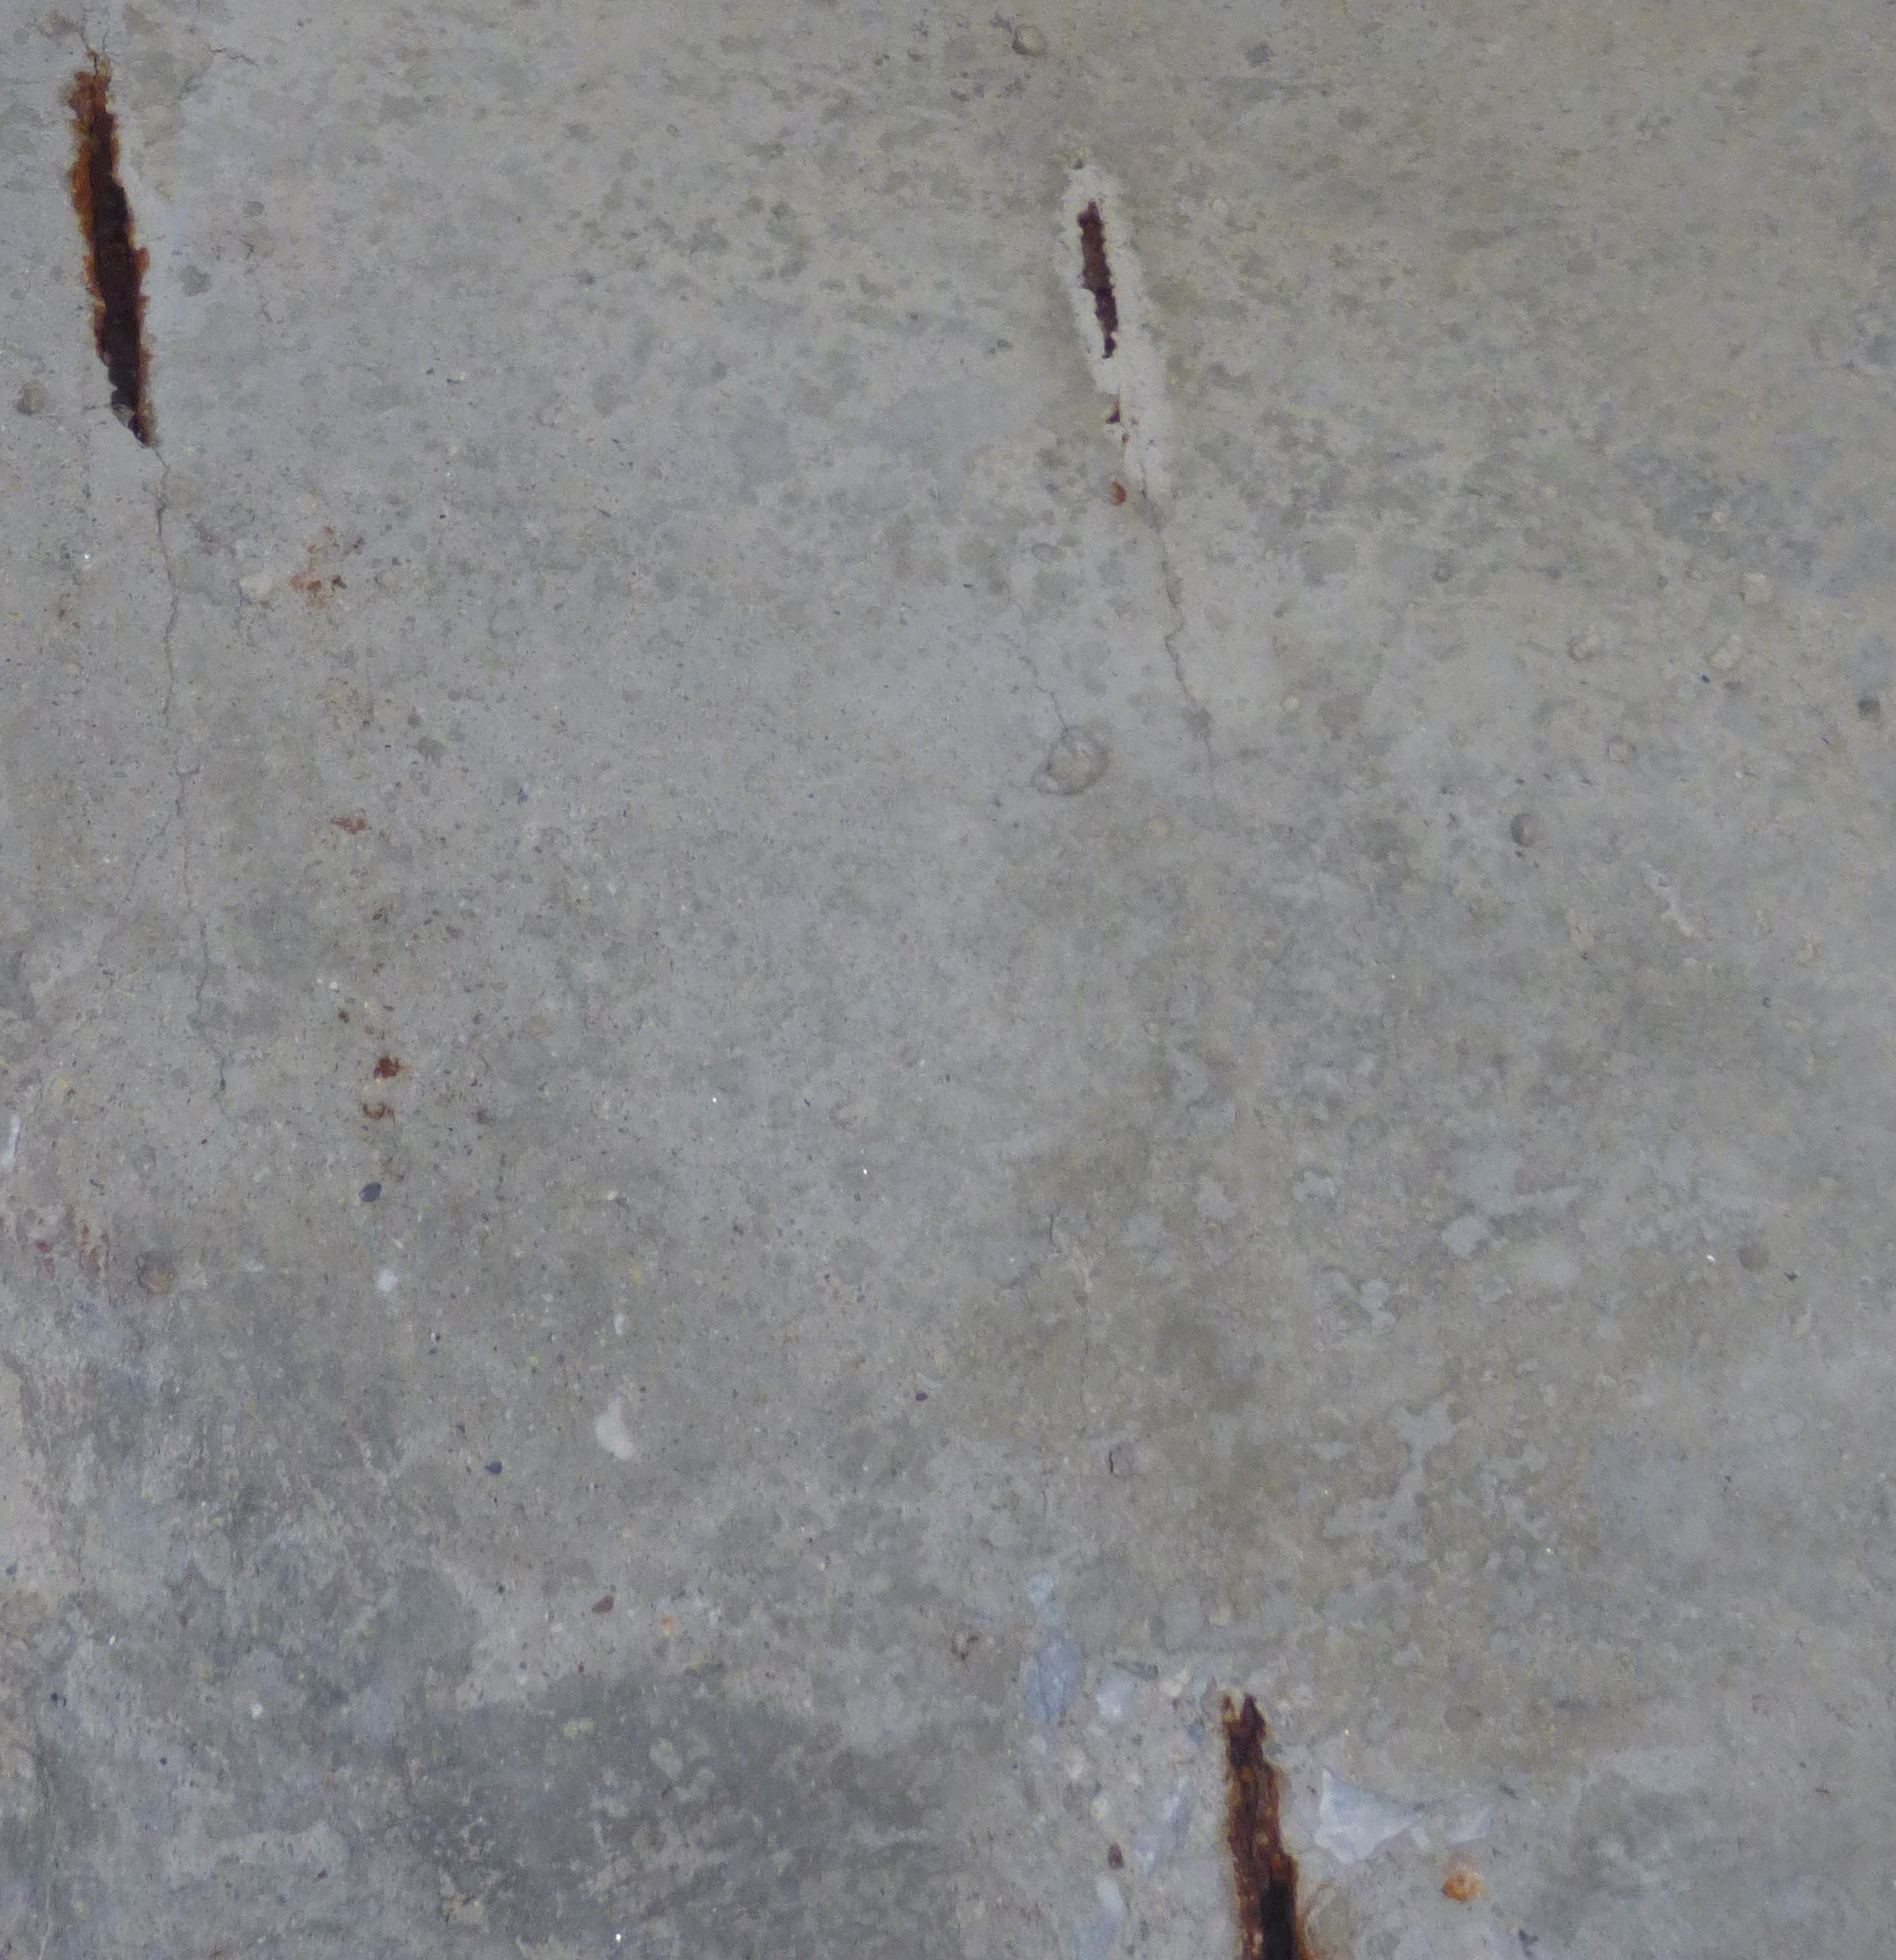Crack: (154, 450, 231, 1109)
Exposed reinforcement: (65, 70, 154, 450), (1216, 1694, 1312, 1960), (1076, 199, 1121, 360)
